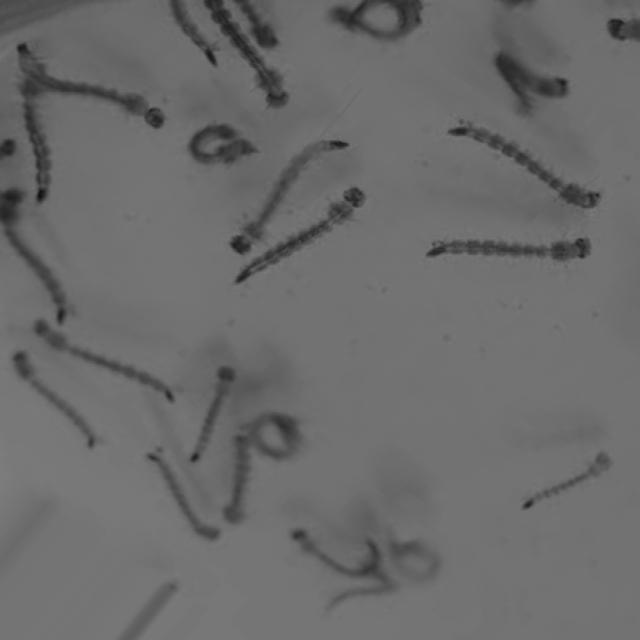larvas: (227, 121, 350, 259), (448, 112, 602, 216), (234, 183, 368, 295), (13, 45, 170, 140), (35, 314, 175, 410), (203, 2, 293, 110), (12, 350, 103, 454), (0, 207, 73, 326), (149, 443, 224, 551), (520, 446, 613, 516), (187, 365, 236, 465), (296, 530, 384, 574), (332, 0, 423, 41), (498, 55, 566, 109), (168, 0, 221, 64), (190, 115, 255, 166), (223, 432, 256, 523), (24, 80, 48, 200), (432, 242, 592, 260), (232, 0, 280, 53), (324, 575, 392, 609), (252, 413, 298, 458), (395, 543, 441, 582), (606, 17, 640, 41), (2, 189, 22, 221), (0, 137, 12, 157)
